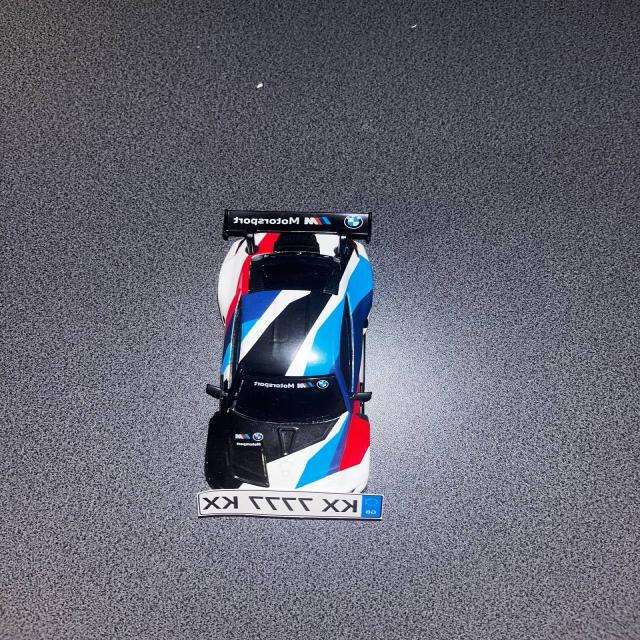cars: (194, 206, 390, 520)
